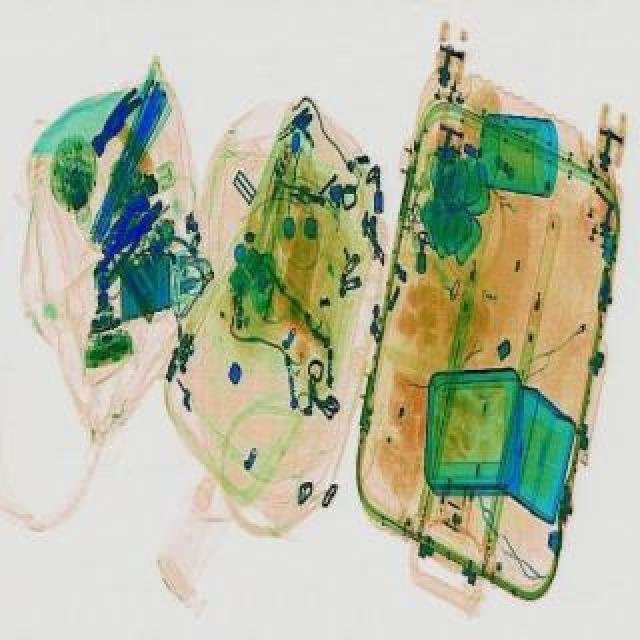wrench: (80, 186, 168, 280)
